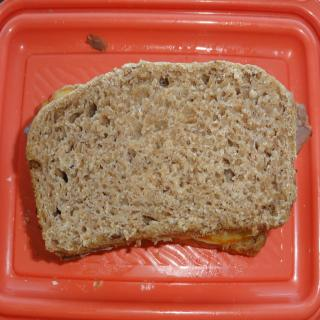Bread: (27, 61, 266, 245), (172, 231, 269, 256)
